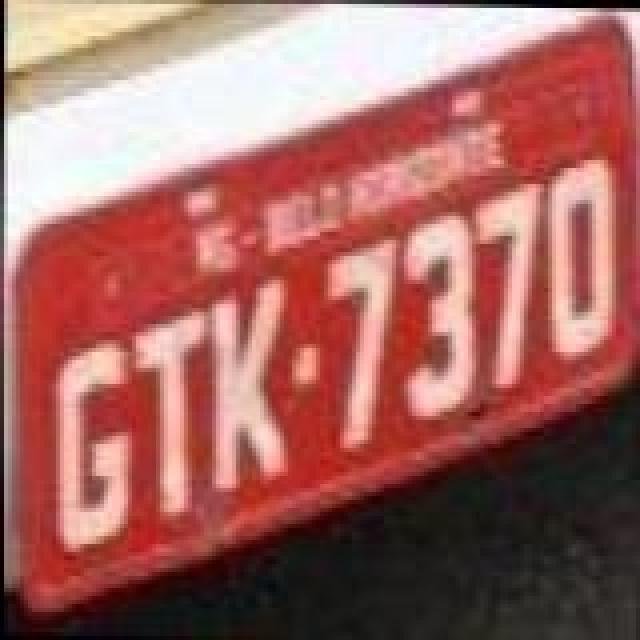3: (400, 210, 484, 422)
7: (320, 238, 404, 454), (466, 180, 546, 392)
G: (54, 334, 138, 554)
K: (206, 274, 290, 494)
O: (544, 150, 624, 362)
T: (126, 304, 210, 516)
